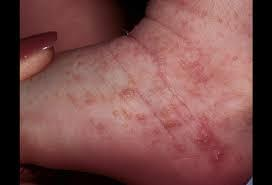Chiggers: (187, 120, 232, 168), (149, 44, 178, 87), (186, 55, 211, 88), (176, 0, 210, 16), (159, 110, 182, 133), (120, 88, 139, 101), (127, 110, 149, 121), (94, 121, 108, 137), (82, 90, 95, 105), (71, 71, 83, 83), (111, 108, 121, 118), (231, 55, 239, 63)
